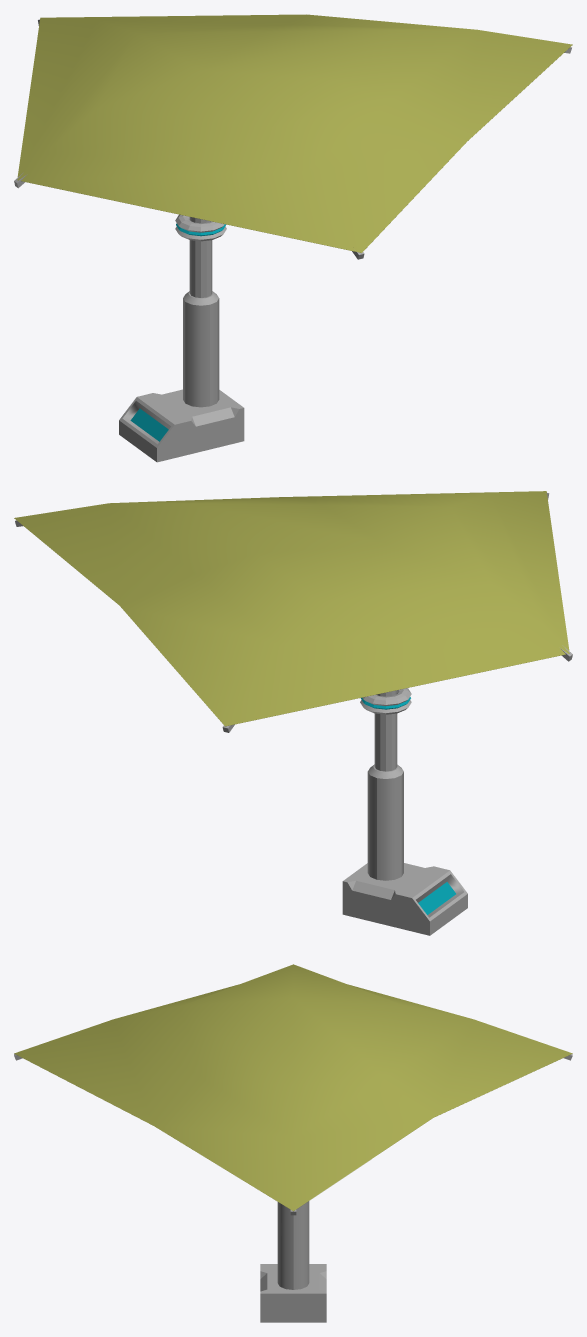
The model's file is PowerSupplyArea.fbx.
3 renders of one model, top to bottom at view 1: azimuth 30°, elevation 25°; view 2: azimuth 150°, elevation 25°; view 3: azimuth 270°, elevation 25°, orthographic. The views are drawn at different scales.
Parts seen in each view (by area): view 1: polySurface4; view 2: polySurface4; view 3: polySurface4.
Boxes of the visible parts, x1,y1,x2,y2 form: polySurface4: (14, 14, 572, 462); polySurface4: (14, 491, 572, 935); polySurface4: (14, 964, 572, 1322).
Bounding box in the file's own units: 35.58 × 22.07 × 35.54.
